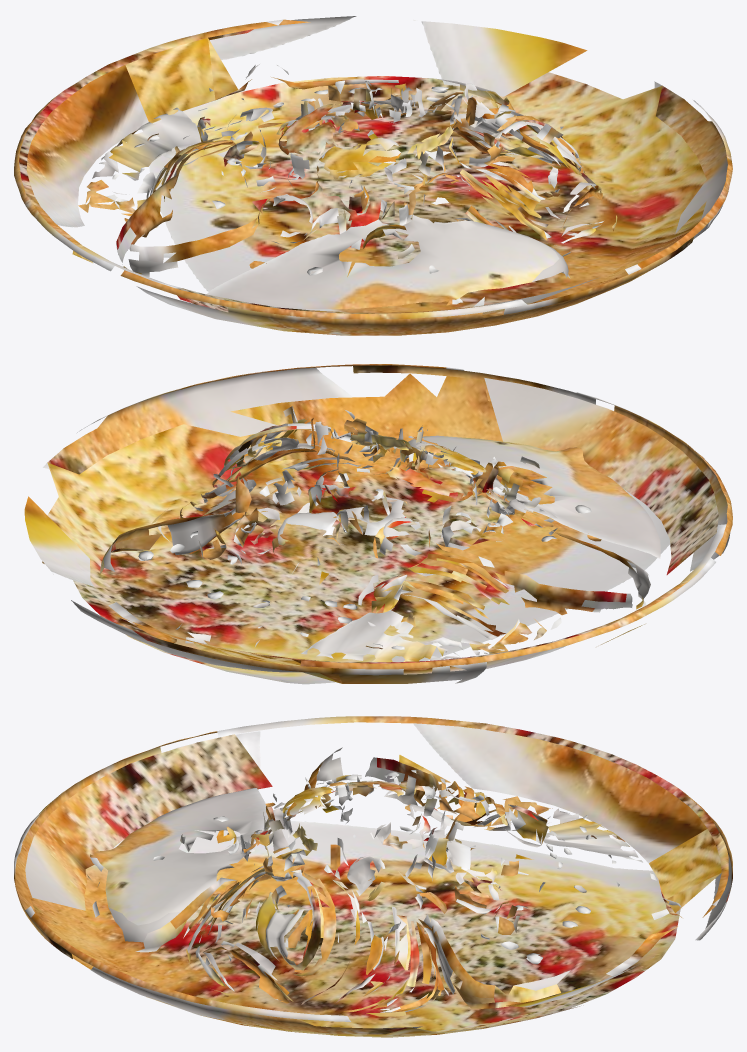
Rendered from pollo_picatta.fbx.
3 renders of one model, top to bottom at view 1: azimuth 30°, elevation 25°; view 2: azimuth 150°, elevation 25°; view 3: azimuth 270°, elevation 25°, orthographic.
Visible parts, largest first — view 1: meshes[0]; view 2: meshes[0]; view 3: meshes[0].
Part boxes in pixels (box(x1,y1,x2,y2)): meshes[0]: box(14, 16, 732, 335); meshes[0]: box(24, 364, 732, 684); meshes[0]: box(14, 716, 732, 1037).
Size of the model in its own units: 99.8 by 19.34 by 99.8.
